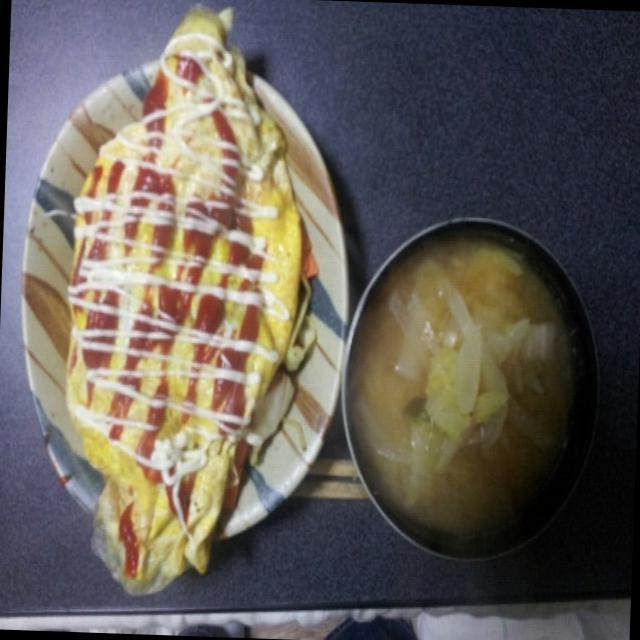Omelet: (50, 0, 325, 584)
